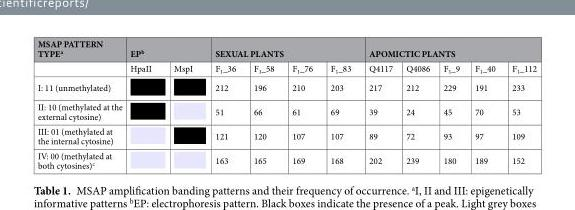table: (36, 37, 536, 171)
table column: (36, 37, 125, 171), (161, 37, 203, 171), (203, 37, 244, 171), (320, 37, 359, 171), (359, 37, 398, 171), (244, 37, 282, 171), (282, 37, 320, 171), (398, 37, 436, 171), (466, 37, 503, 171), (125, 37, 161, 171), (503, 37, 536, 171), (436, 37, 466, 171)
table column header: (36, 37, 536, 77)
table row: (36, 96, 536, 123), (36, 123, 536, 147), (36, 147, 536, 171), (36, 37, 536, 60), (36, 77, 536, 96), (36, 60, 536, 77)
table spanning cell: (359, 37, 536, 60), (203, 37, 359, 60), (36, 37, 125, 77), (125, 37, 203, 60)
